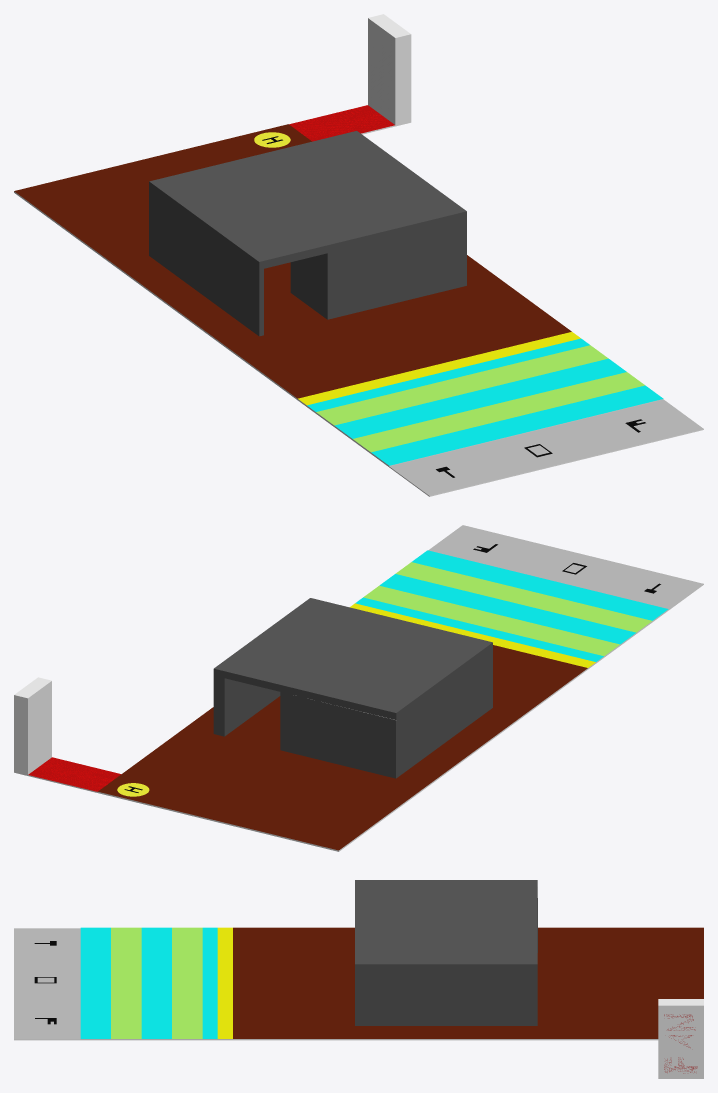
File: cen_ind_missao4_1.dae
The picture shows the model from 3 angles, top to bottom: view 1: azimuth 30°, elevation 25°; view 2: azimuth 150°, elevation 25°; view 3: azimuth 270°, elevation 25°; orthographic projection. The views are drawn at different scales.
Visible parts, largest first — view 1: SketchUp (×11); view 2: SketchUp (×11); view 3: SketchUp (×12).
Part boxes in pixels (x1,y1,x2,y2): SketchUp (×11): (14,14,703,496); SketchUp (×11): (14,525,703,851); SketchUp (×12): (14,880,703,1078).
Size of the model in its own units: 458 by 892 by 105.
